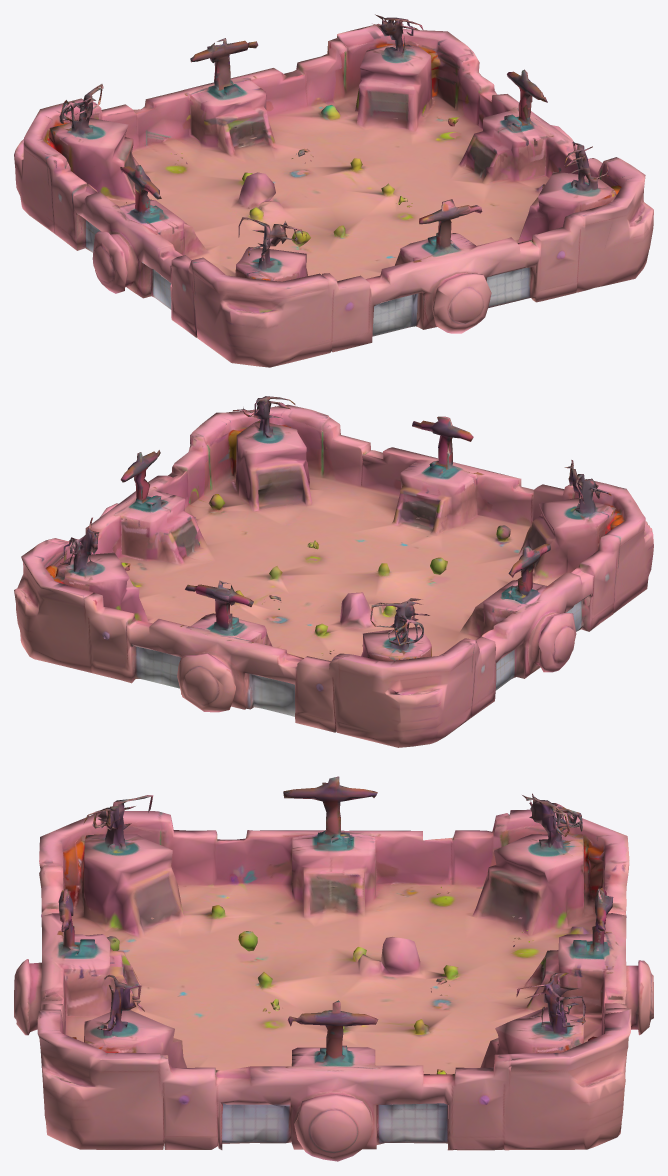
The model's file is dm_blobville.glb.
3 renders of one model, top to bottom at view 1: azimuth 30°, elevation 25°; view 2: azimuth 150°, elevation 25°; view 3: azimuth 270°, elevation 25°, orthographic. The views are drawn at different scales.
Size of the model in its own units: 2 by 0.4989 by 2.
1 material, 1 textured.
